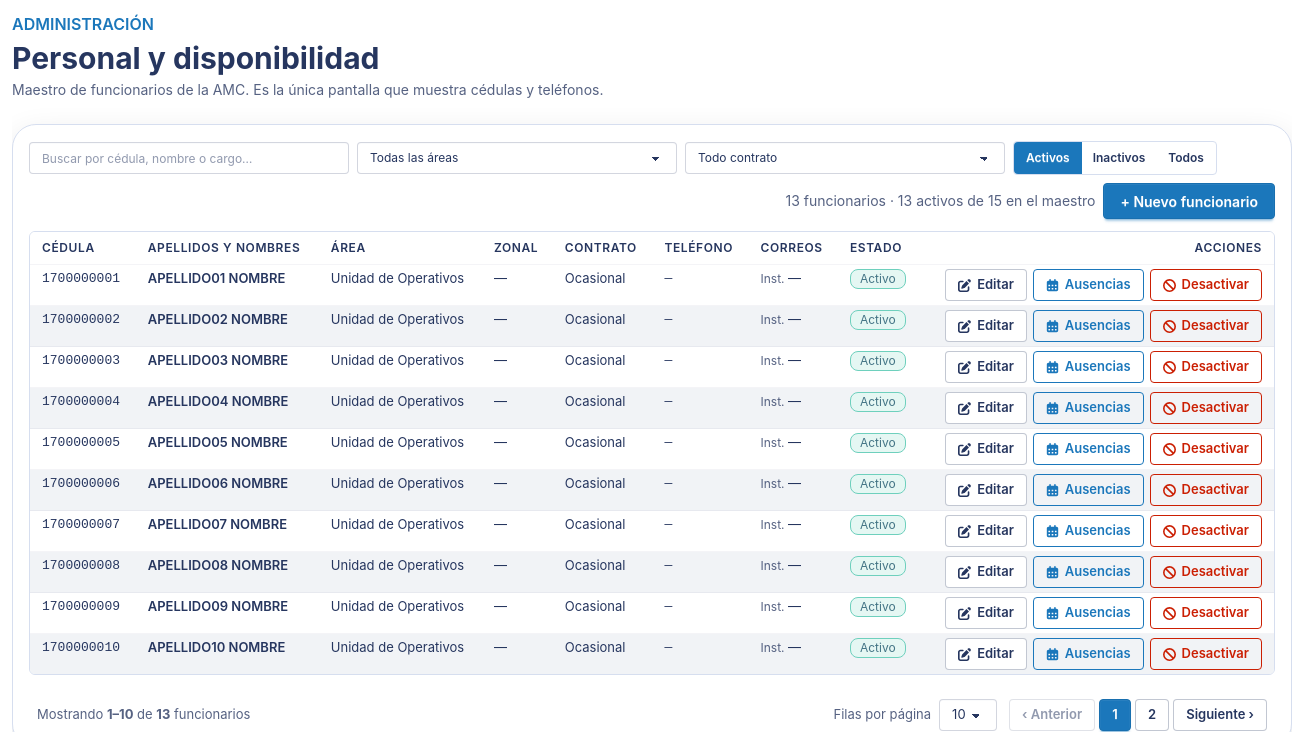
it: P-07 · filtro inicial, contador y paginación › «Inactivos» muestra solo las bajas
The width and height of the screenshot is (1292, 732).
Expected: the text "13 funcionarios · 13 activos de 15 en el maestro" is shown, [785,191,1095,211]
Click the button "Inactivos" at (1119, 158), box [1081,142,1157,174]
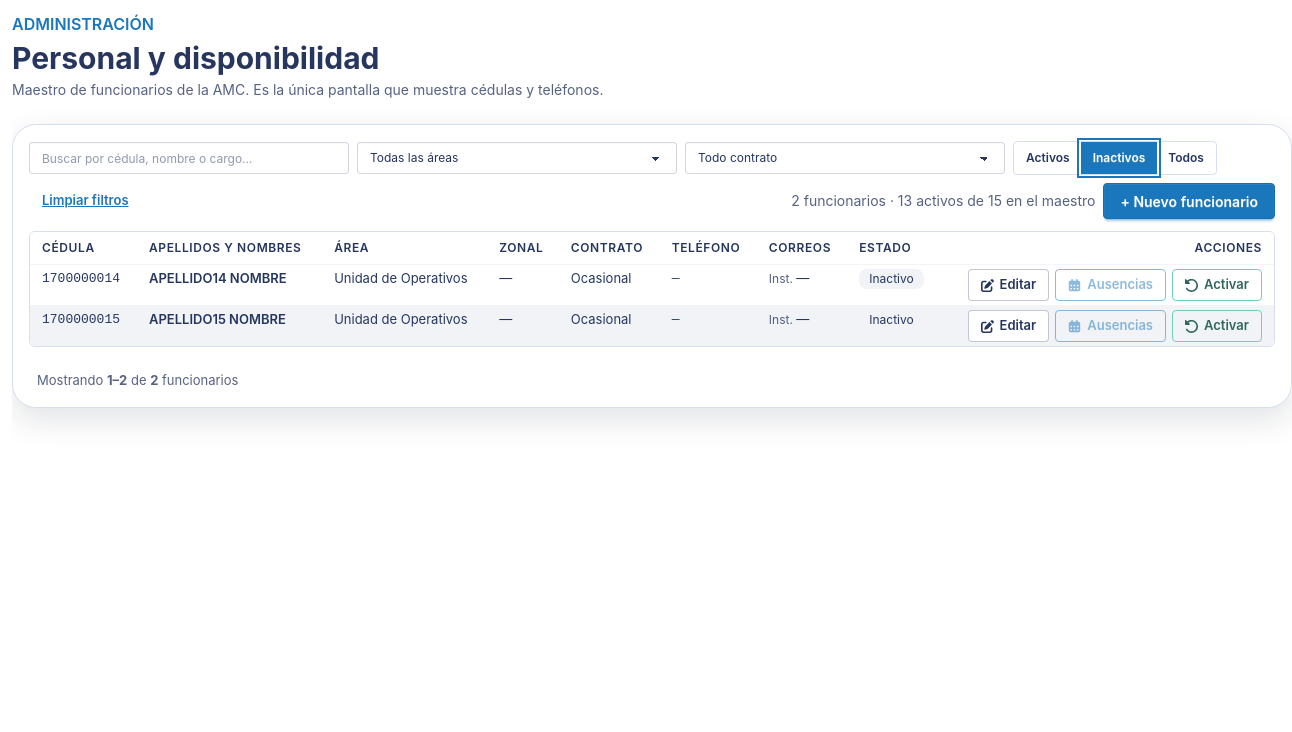
Now the text "2 funcionarios · 13 activos de 15 en el maestro" is shown, box [791,191,1096,211]
Now the text "Inactivo" is shown 2 times, box [859,270,924,290]; [859,310,924,330]
